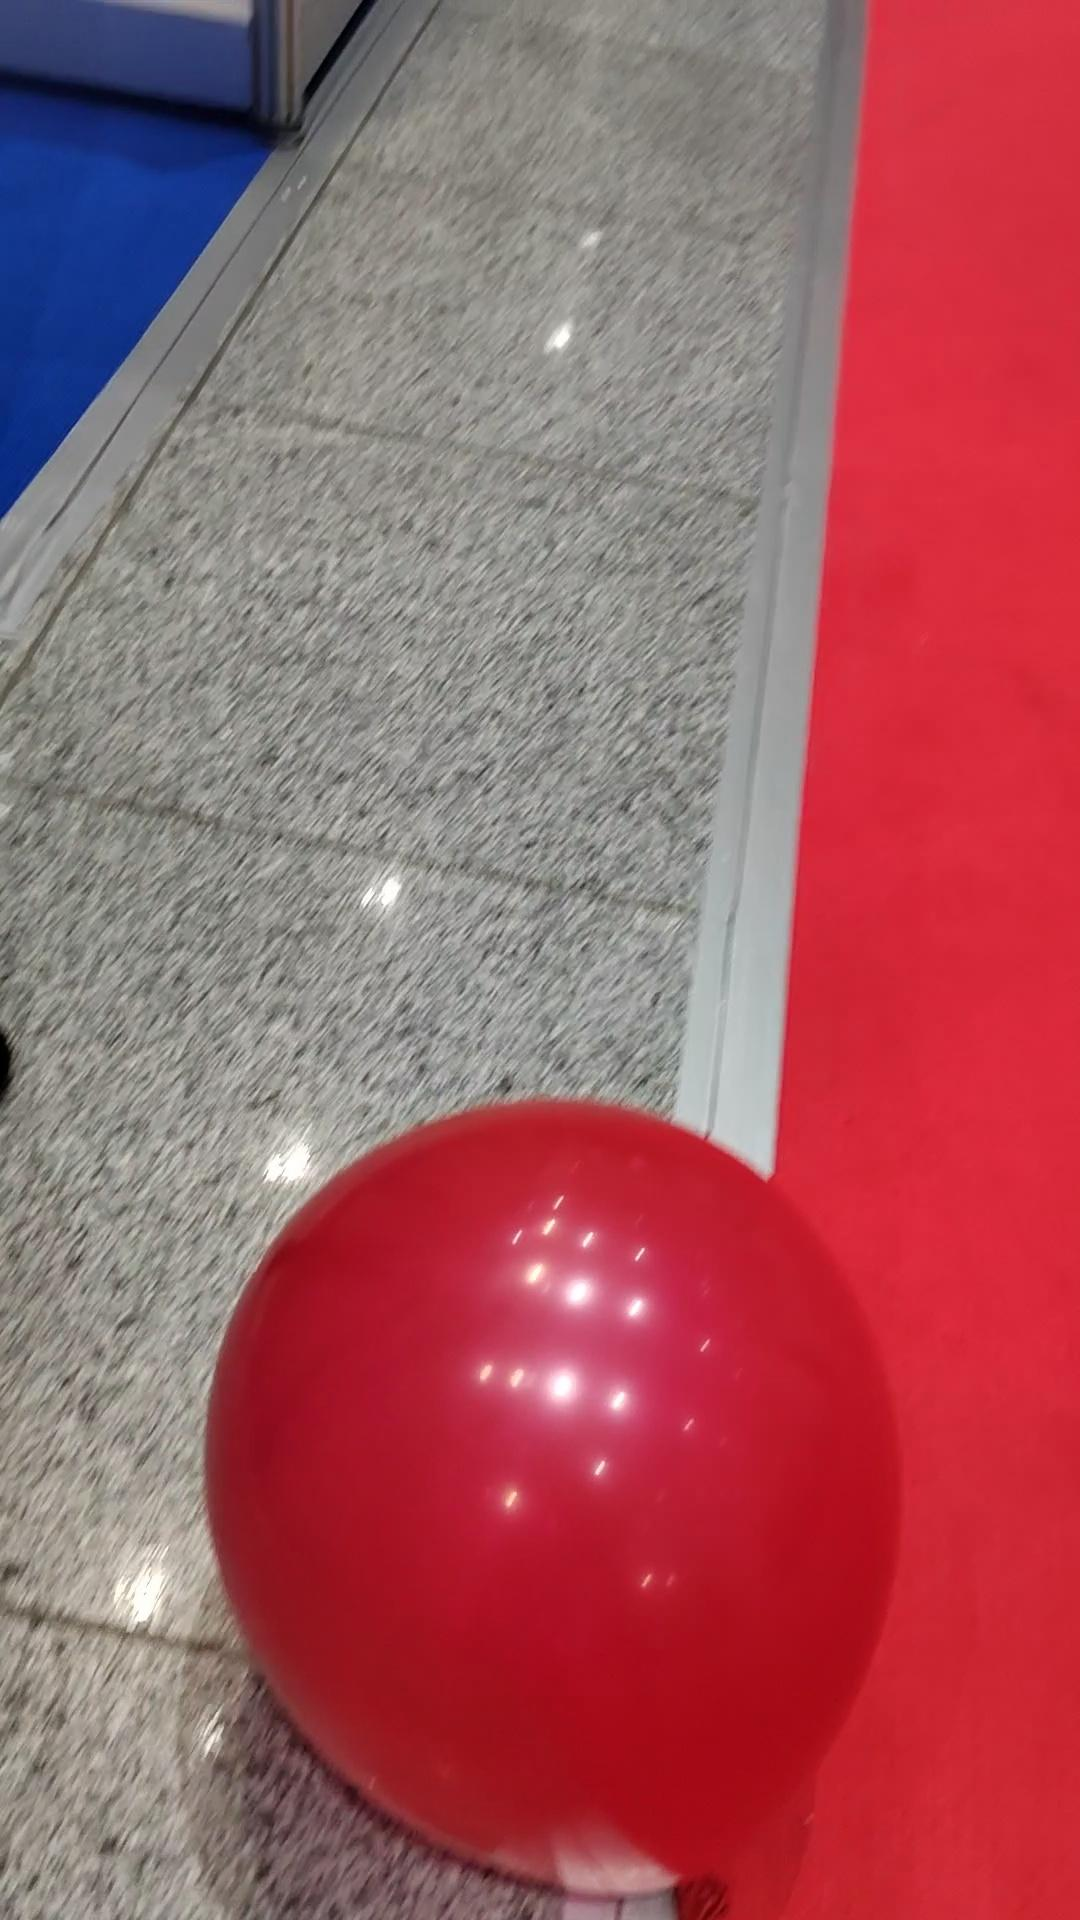red: (179, 1097, 928, 1920)
